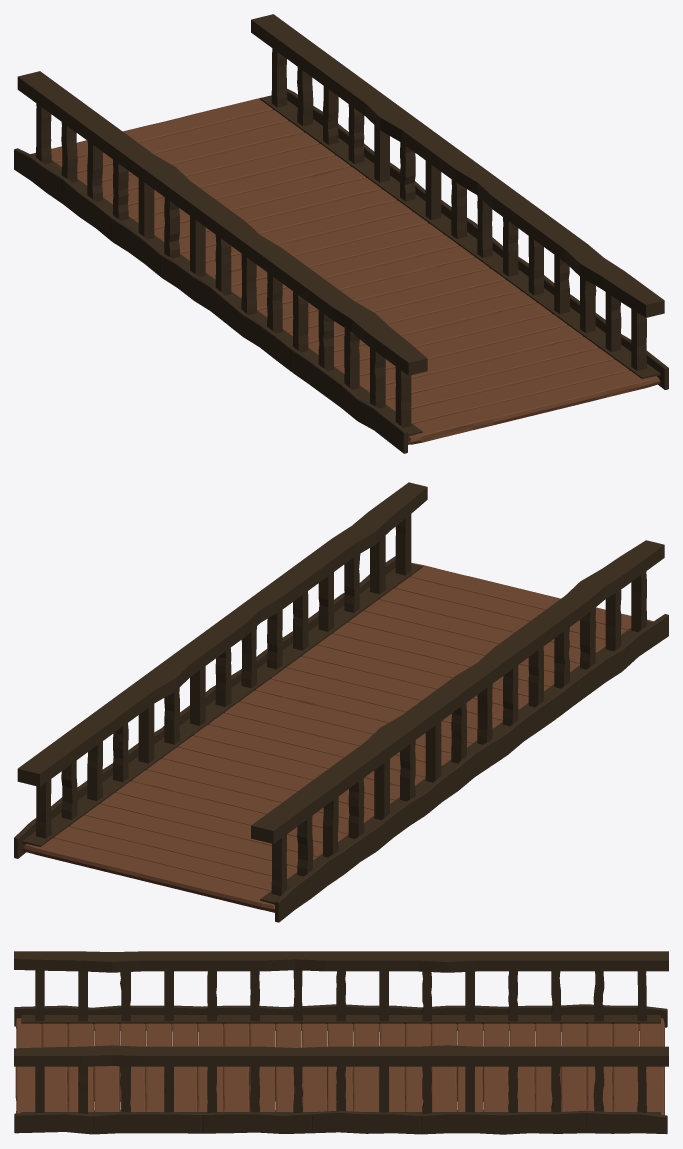
Rendered from Jembatan.fbx.
3 renders of one model, top to bottom at view 1: azimuth 30°, elevation 25°; view 2: azimuth 150°, elevation 25°; view 3: azimuth 270°, elevation 25°, orthographic. The views are drawn at different scales.
Parts seen in each view (by area): view 1: Jembatan; view 2: Jembatan; view 3: Jembatan.
Part boxes in pixels (x1=…): Jembatan: x1=14, y1=14, x2=668, y2=453; Jembatan: x1=14, y1=482, x2=668, y2=922; Jembatan: x1=14, y1=951, x2=668, y2=1134.
Bounding box in the file's own units: 494 × 163 × 1261.
